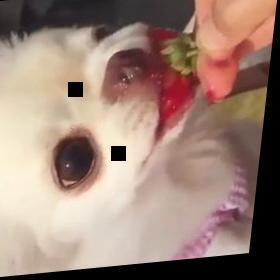nasal_discharge: (107, 63, 145, 92)
